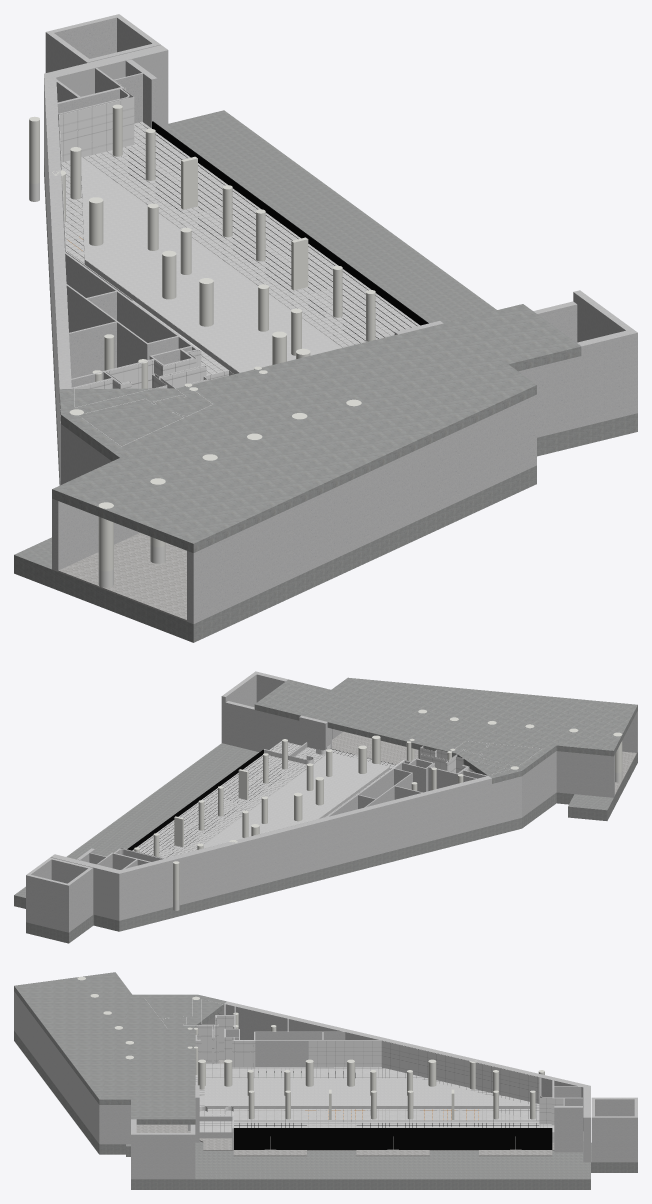
3 views of the same model, one above another, from view 1: azimuth 30°, elevation 25°; view 2: azimuth 150°, elevation 25°; view 3: azimuth 270°, elevation 25° (orthographic). The views are drawn at different scales.
Visible parts, largest first — view 1: 03 지하 2층 대합실.003, 03 지하 2층 대합실.004, 03 지하 2층 대합실.002, 03 지하 2층 대합실.006, 03 지하 2층 대합실.011, 03 지하 2층 대합실, 03 지하 2층 대합실.010, 03 지하 2층 대합실.017, 03 지하 2층 대합실.005; view 2: 03 지하 2층 대합실.004, 03 지하 2층 대합실.003, 03 지하 2층 대합실.002, 03 지하 2층 대합실.006, 03 지하 2층 대합실, 03 지하 2층 대합실.011, 03 지하 2층 대합실.010; view 3: 03 지하 2층 대합실.003, 03 지하 2층 대합실.004, 03 지하 2층 대합실.002, 03 지하 2층 대합실.011, 03 지하 2층 대합실.010, 03 지하 2층 대합실.006, 03 지하 2층 대합실.017, 03 지하 2층 대합실.
Boxes of the visible parts, x1,y1,x2,y2 form: 03 지하 2층 대합실.003: (14, 110, 637, 642); 03 지하 2층 대합실.004: (44, 14, 637, 623); 03 지하 2층 대합실.002: (61, 121, 419, 375); 03 지하 2층 대합실.006: (29, 104, 375, 571); 03 지하 2층 대합실.011: (59, 80, 233, 446); 03 지하 2층 대합실: (58, 153, 390, 621); 03 지하 2층 대합실.010: (128, 121, 428, 336); 03 지하 2층 대합실.017: (129, 135, 411, 342); 03 지하 2층 대합실.005: (29, 171, 342, 587); 03 지하 2층 대합실.004: (26, 671, 637, 932); 03 지하 2층 대합실.003: (14, 677, 637, 943); 03 지하 2층 대합실.002: (132, 741, 395, 858); 03 지하 2층 대합실.006: (134, 709, 622, 900); 03 지하 2층 대합실: (160, 731, 636, 856); 03 지하 2층 대합실.011: (107, 741, 542, 858); 03 지하 2층 대합실.010: (127, 749, 395, 856); 03 지하 2층 대합실.003: (14, 972, 637, 1189); 03 지하 2층 대합실.004: (14, 991, 637, 1179); 03 지하 2층 대합실.002: (195, 1063, 554, 1132); 03 지하 2층 대합실.011: (145, 998, 563, 1149); 03 지하 2층 대합실.010: (234, 1071, 552, 1149); 03 지하 2층 대합실.006: (77, 976, 544, 1125); 03 지하 2층 대합실.017: (234, 1123, 551, 1149); 03 지하 2층 대합실: (136, 1059, 583, 1156).
Size of the model in its own units: 6434 by 994 by 10202.
